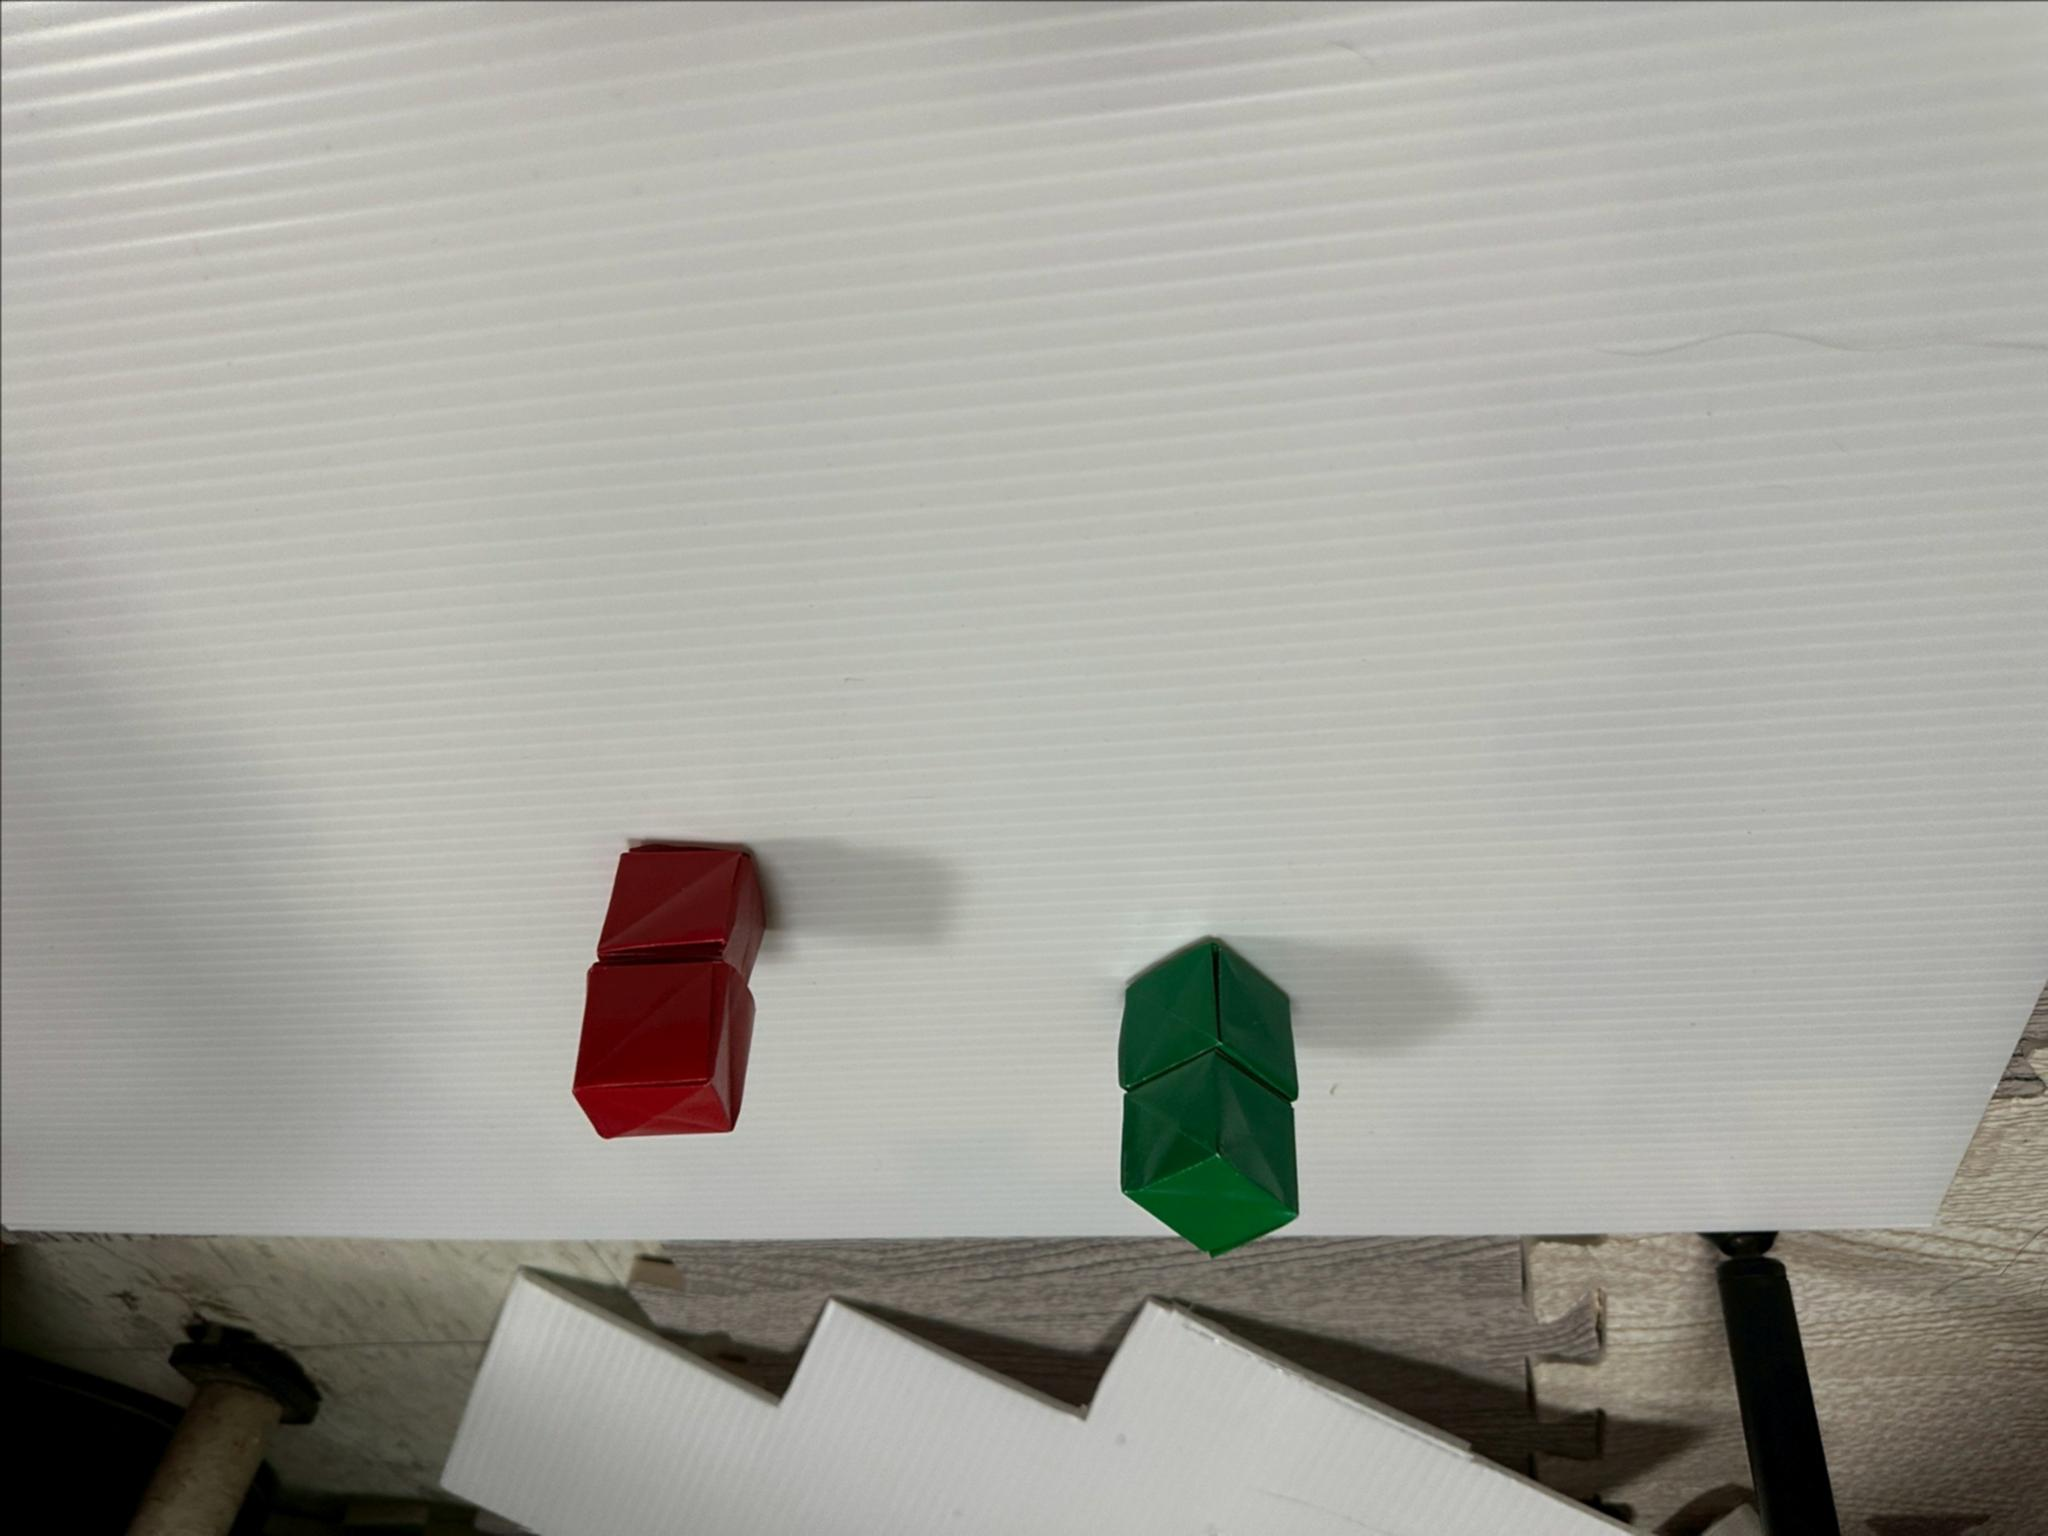cube: (1121, 1052, 1297, 1252), (572, 960, 751, 1137), (1118, 942, 1297, 1100), (597, 845, 764, 975)
